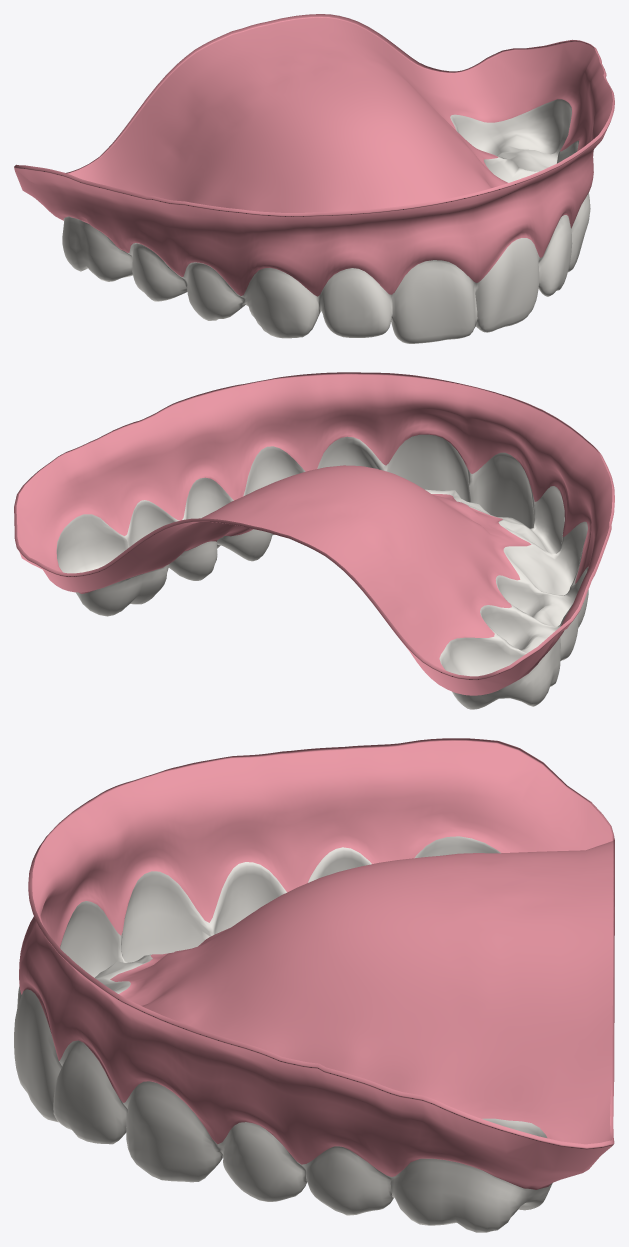
Rendered from U_Arch_NoBase.fbx.
3 renders of one model, top to bottom at view 1: azimuth 30°, elevation 25°; view 2: azimuth 150°, elevation 25°; view 3: azimuth 270°, elevation 25°, orthographic. The views are drawn at different scales.
Visible parts, largest first — view 1: Upper_Arch_NoBase; view 2: Upper_Arch_NoBase; view 3: Upper_Arch_NoBase.
Part boxes in pixels (x1=…): Upper_Arch_NoBase: x1=14, y1=14, x2=614, y2=343; Upper_Arch_NoBase: x1=14, y1=372, x2=614, y2=709; Upper_Arch_NoBase: x1=14, y1=738, x2=614, y2=1232.
Bounding box in the file's own units: 28.78 × 8.09 × 19.61.
